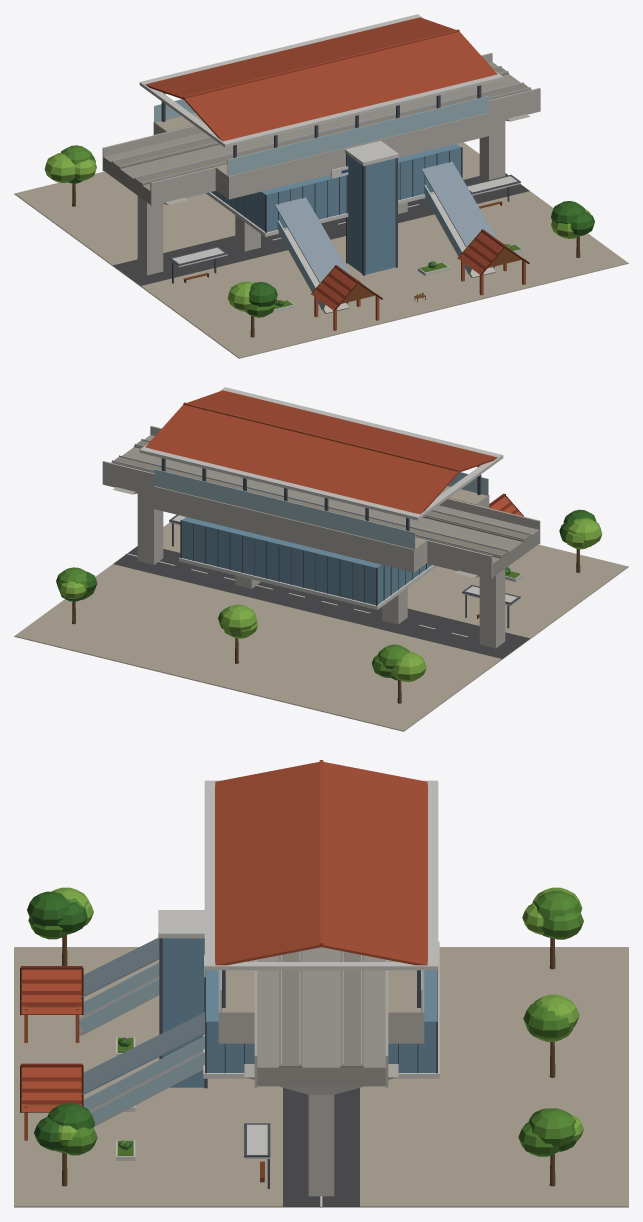
Rendered from station.glb.
3 renders of one model, top to bottom at view 1: azimuth 30°, elevation 25°; view 2: azimuth 150°, elevation 25°; view 3: azimuth 270°, elevation 25°, orthographic. The views are drawn at different scales.
Visible parts, largest first — view 1: body; view 2: body; view 3: body.
Part boxes in pixels (box(x1,y1,x2,y2)): body: box(14, 14, 628, 358); body: box(14, 387, 628, 731); body: box(14, 760, 628, 1207).
Size of the model in its own units: 47.95 by 19.48 by 47.9.
